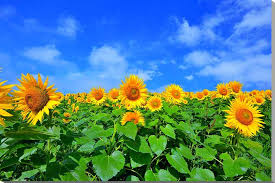flower: (4, 77, 275, 177)
sky: (1, 1, 269, 82)
